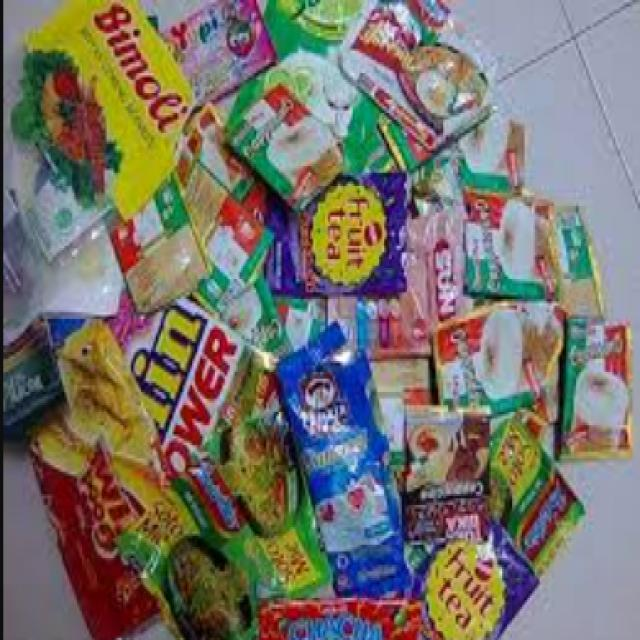KemasanPlastik: (11, 0, 634, 638)
